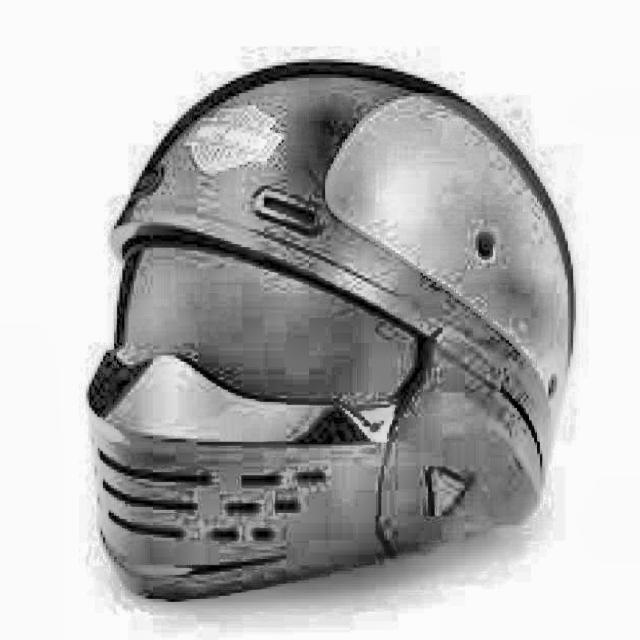Helmet: (82, 53, 579, 610)
